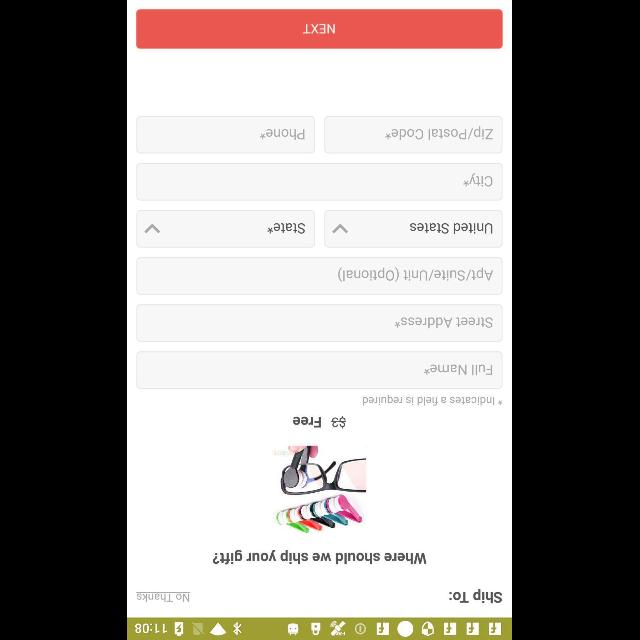icon: (332, 222, 350, 234), (146, 223, 160, 233)
image: (274, 445, 366, 533)
input: (137, 163, 503, 201), (137, 257, 503, 295), (137, 304, 503, 342), (137, 351, 503, 389), (137, 116, 315, 154), (325, 116, 503, 154)
spinner: (137, 210, 316, 248), (325, 210, 503, 248)
text: (213, 550, 427, 564), (338, 268, 494, 282), (363, 394, 503, 406), (386, 126, 494, 140), (410, 220, 494, 236), (395, 316, 493, 328), (425, 364, 493, 376), (450, 589, 502, 603), (268, 220, 306, 236), (137, 592, 191, 602), (261, 128, 305, 140), (464, 173, 494, 187), (294, 417, 322, 428), (332, 416, 346, 428)
textbutton: (137, 10, 503, 48)
uppertaskbar: (128, 617, 512, 639)
